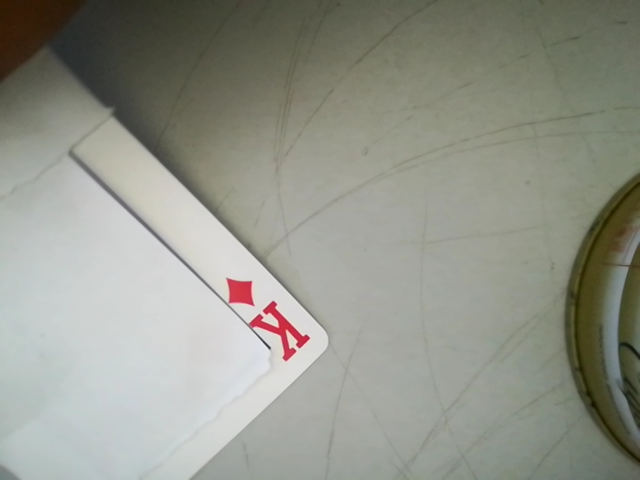fk k: (214, 272, 310, 370)
